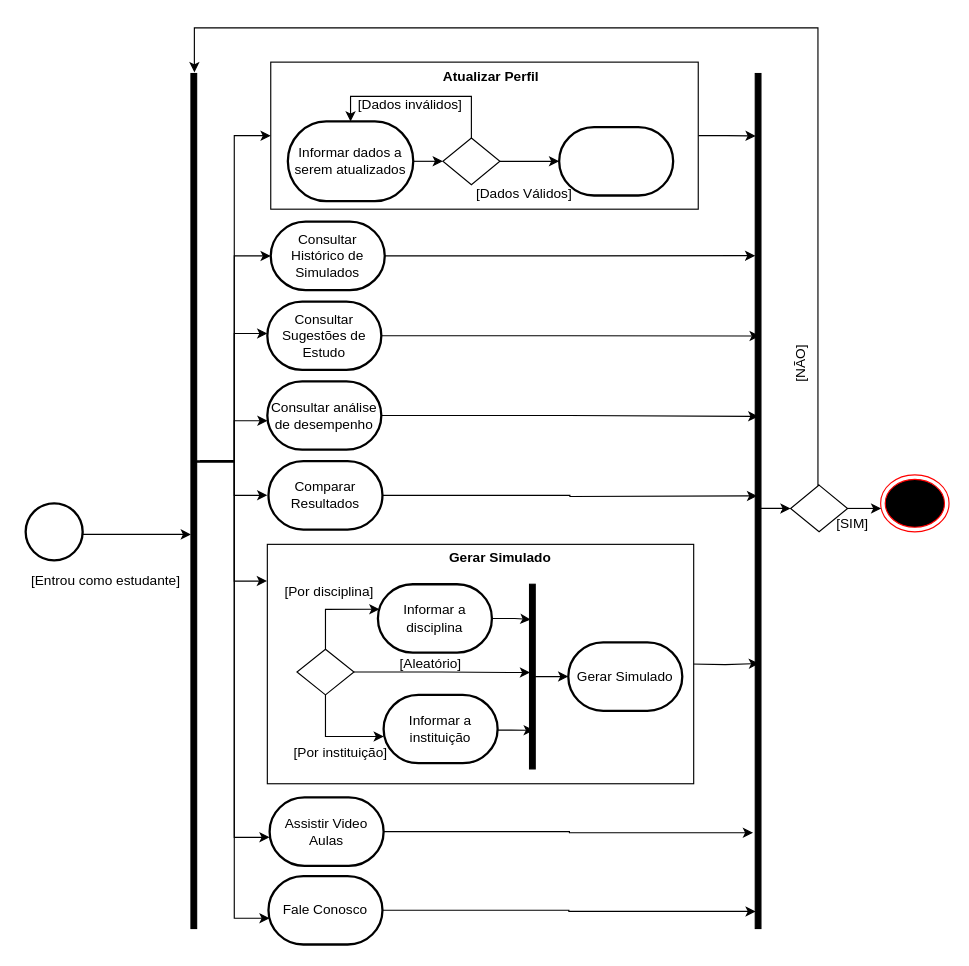
This 969x966 diagram has some shape labels left out. The shapes that lost their labels are listed below. From the top down, each one's centre as x and y in pixels, then its label:
At pixel 615 160: "Efetivar atualização dos dados".
At pixel 818 508: "Sair?".
